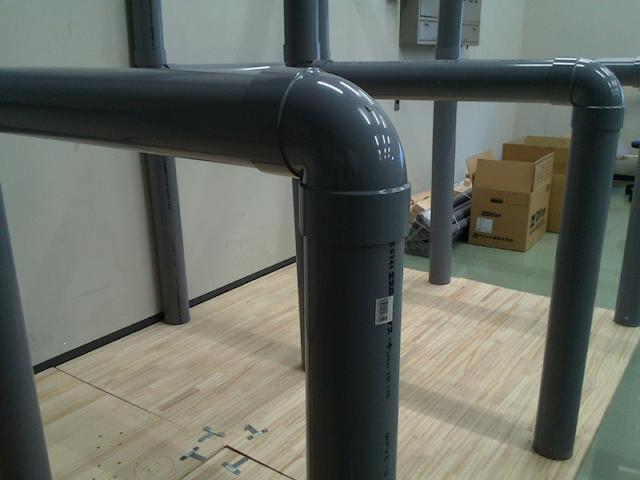bent: (242, 65, 413, 244), (548, 56, 626, 132)
